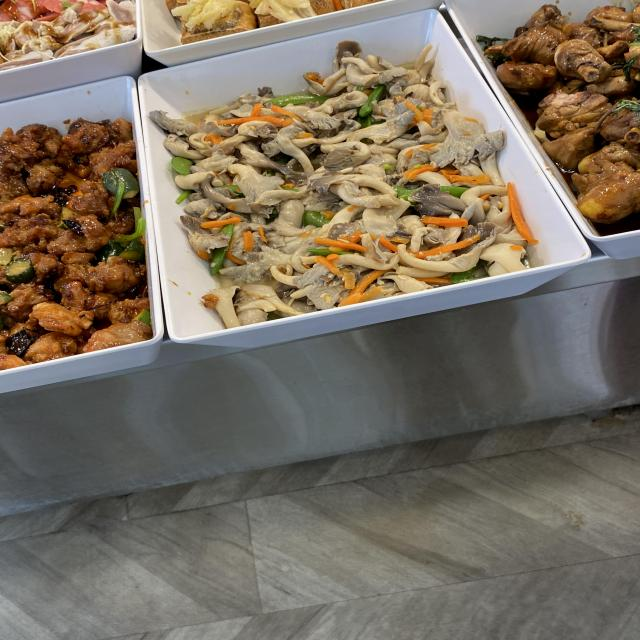Fushan-lettuceStir-fried Sweet Beans with Oyster Mushrooms: (228, 104, 460, 270)
